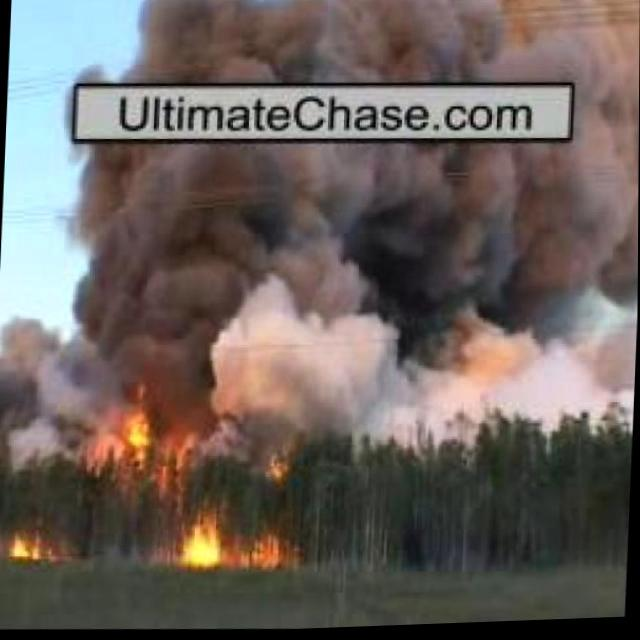fire: (118, 390, 158, 458), (184, 508, 226, 568), (8, 538, 52, 562), (262, 539, 290, 573)
